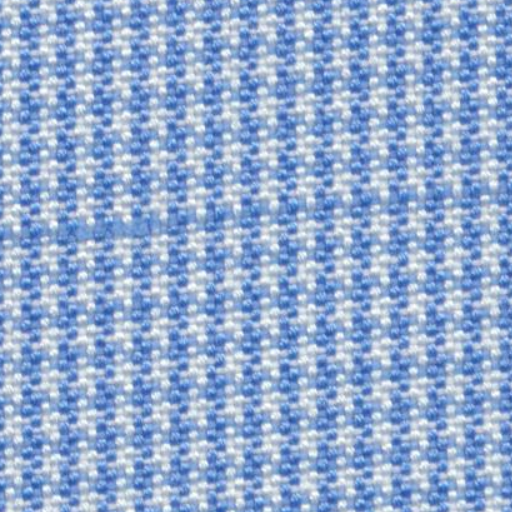TuoSha: (12, 155, 488, 272)
